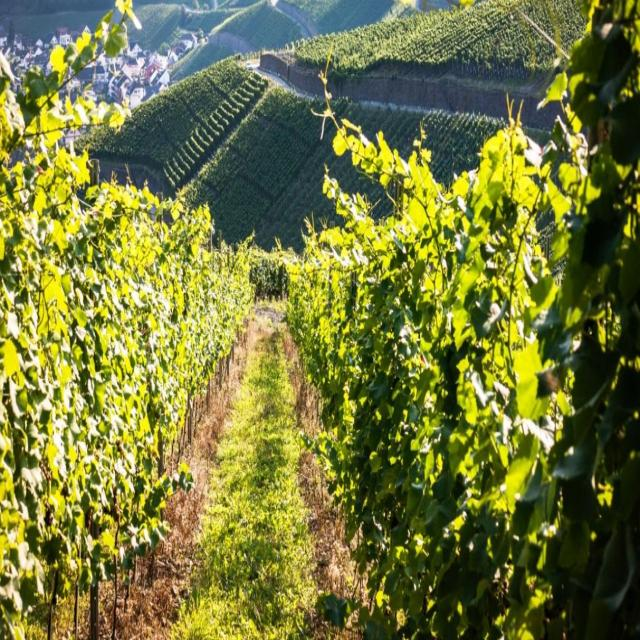row: (103, 318, 403, 640)
